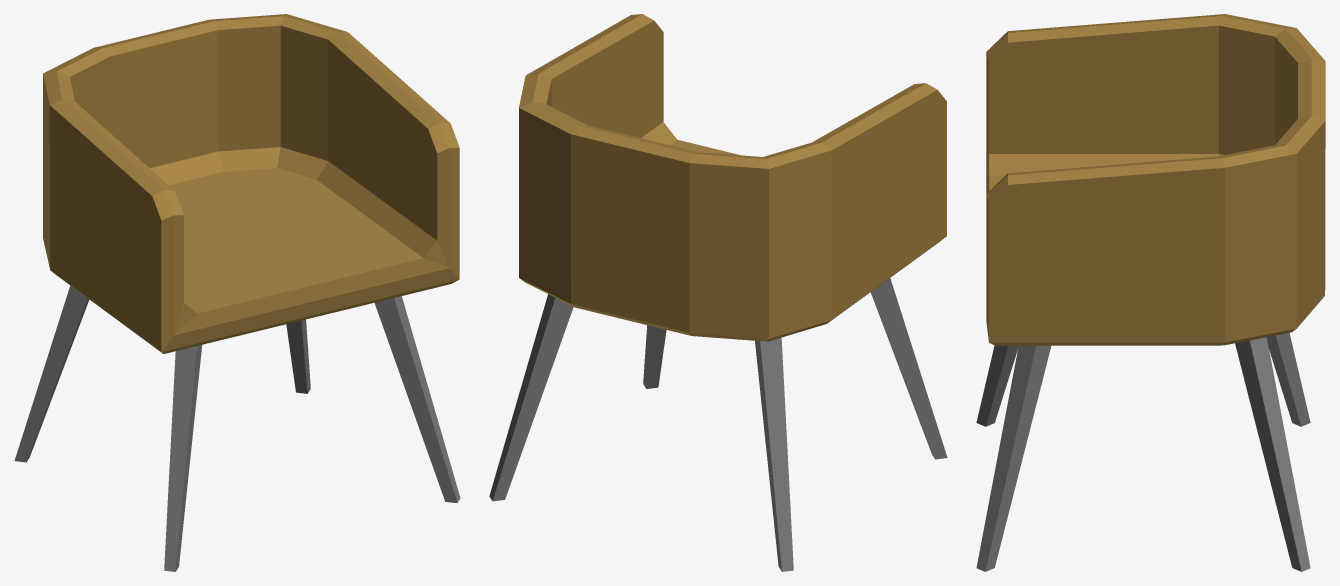
File: SM_Props_Interior_Shop_Restaurant_Chair_01.fbx
3 renders of one model, left to right at view 1: azimuth 30°, elevation 25°; view 2: azimuth 150°, elevation 25°; view 3: azimuth 270°, elevation 25°, orthographic. The views are drawn at different scales.
Parts seen in each view (by area): view 1: SM_Props_Interior_Shop_Restaurant_Chair_01; view 2: SM_Props_Interior_Shop_Restaurant_Chair_01; view 3: SM_Props_Interior_Shop_Restaurant_Chair_01.
Part boxes in pixels (left/top/right/bottom): SM_Props_Interior_Shop_Restaurant_Chair_01: left=14, top=14, right=460, bottom=571; SM_Props_Interior_Shop_Restaurant_Chair_01: left=489, top=14, right=947, bottom=571; SM_Props_Interior_Shop_Restaurant_Chair_01: left=976, top=14, right=1325, bottom=571.
Size of the model in its own units: 53 by 65.62 by 50.83.
